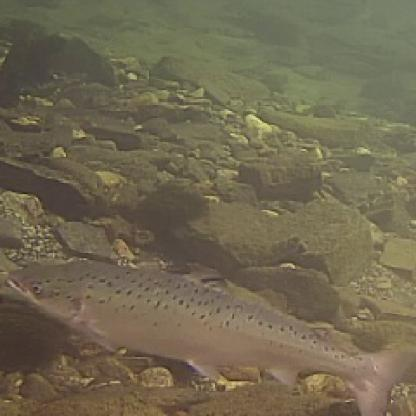salmon: (2, 248, 414, 414)
